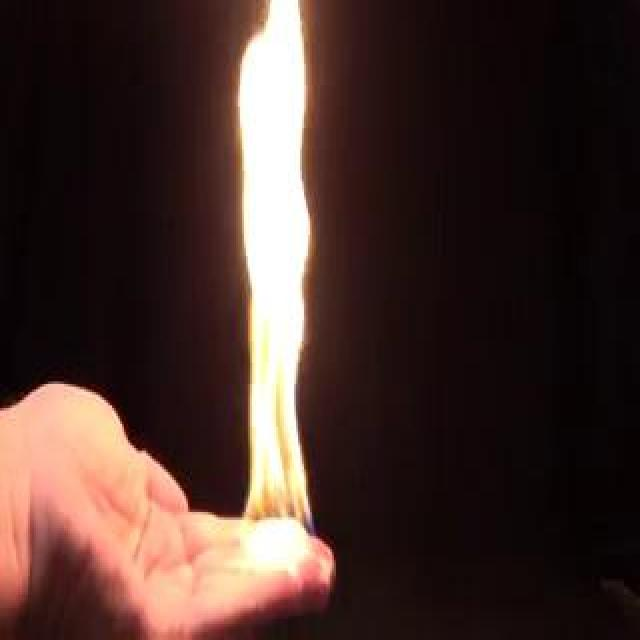Fire: (218, 3, 334, 581)
